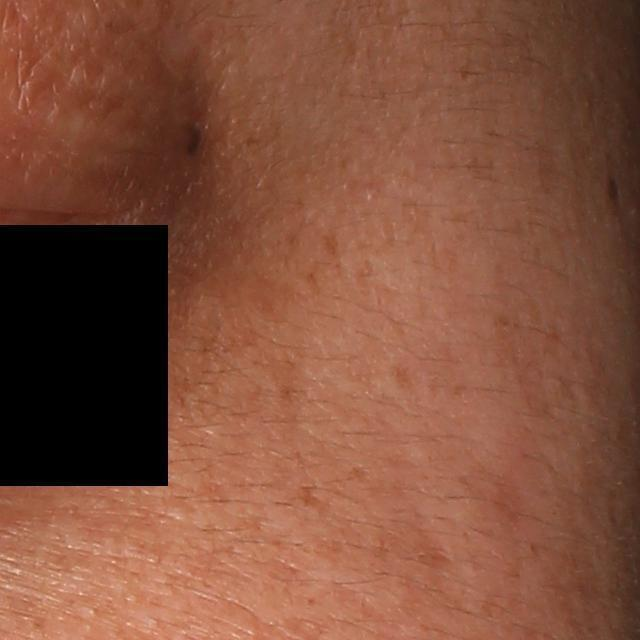melasma: (294, 480, 323, 506), (392, 359, 416, 389)
nevus: (185, 117, 202, 162), (606, 175, 625, 212)
